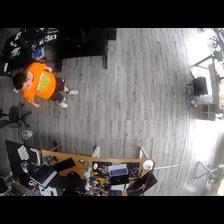normal: (12, 60, 80, 107)
